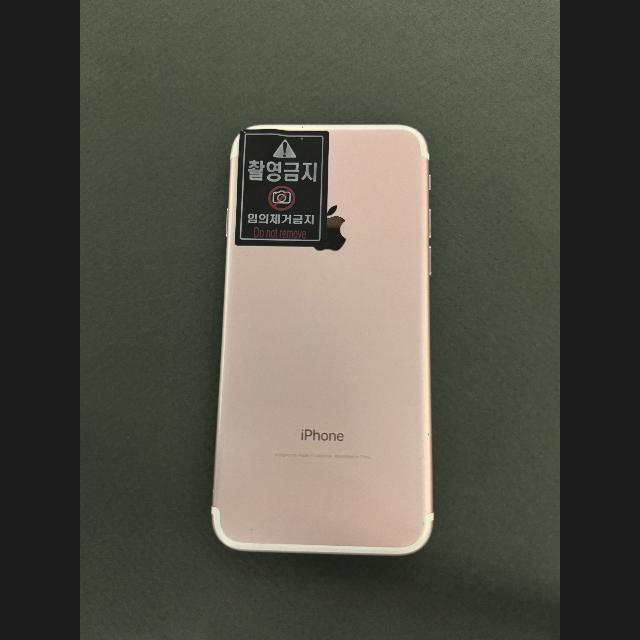phone: (211, 124, 434, 556)
sticker: (235, 129, 329, 247)
